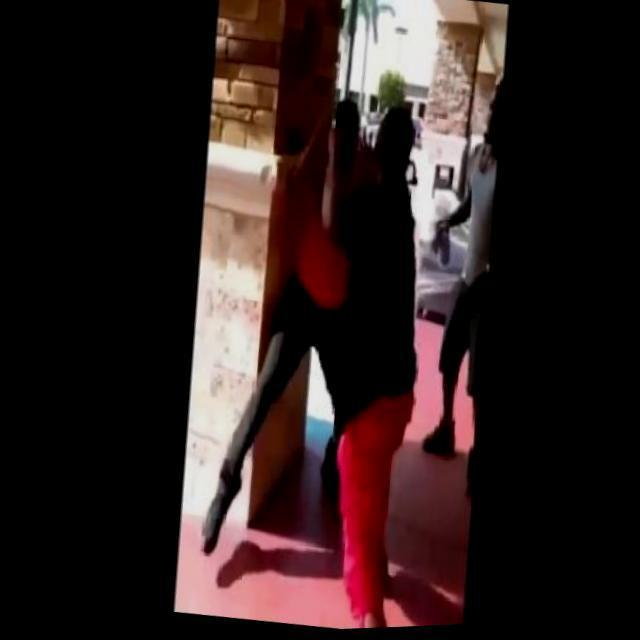fight: (153, 78, 476, 636)
